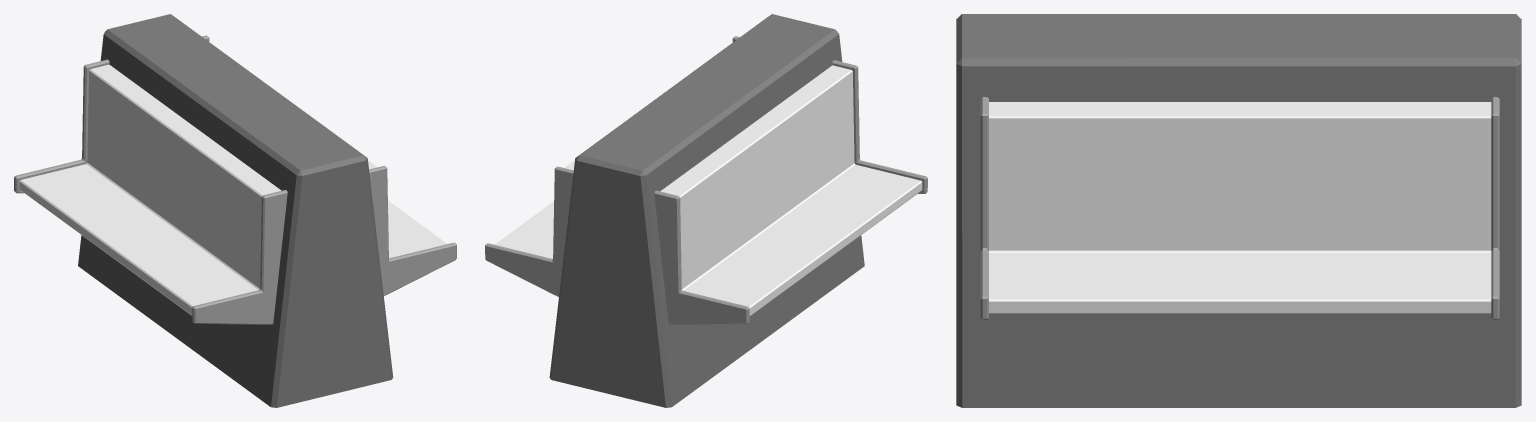
Rendered from Bench.fbx.
3 views of the same model, side by side, from view 1: azimuth 30°, elevation 25°; view 2: azimuth 150°, elevation 25°; view 3: azimuth 270°, elevation 25° (orthographic). The views are drawn at different scales.
Parts seen in each view (by area): view 1: Bench; view 2: Bench; view 3: Bench.
Part boxes in pixels (x1,y1,x2,y2): Bench: [14, 14, 456, 407]; Bench: [485, 14, 927, 407]; Bench: [956, 14, 1521, 407].
Bounding box in the file's own units: 501 × 417 × 649.
